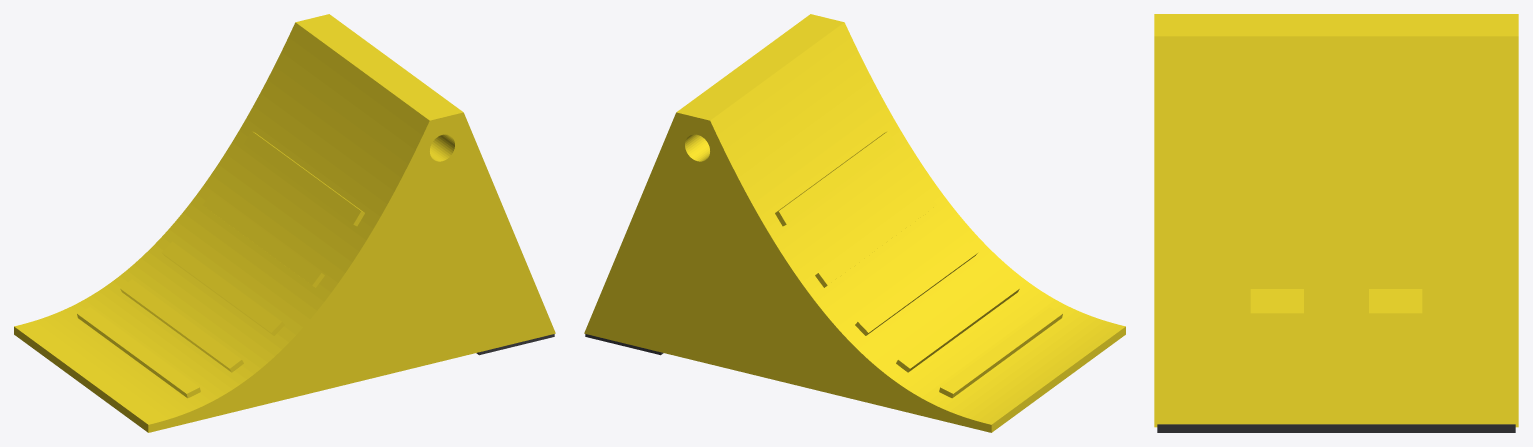
The model's file is radkeil.glb.
3 renders of one model, left to right at view 1: azimuth 30°, elevation 25°; view 2: azimuth 150°, elevation 25°; view 3: azimuth 270°, elevation 25°, orthographic. The views are drawn at different scales.
Visible parts, largest first — view 1: Radkeil_gelb; view 2: Radkeil_gelb; view 3: Radkeil_gelb, Pad_schwarz.
Part boxes in pixels (<box>): Radkeil_gelb: <box>14,14,555,432</box>; Radkeil_gelb: <box>584,14,1125,432</box>; Radkeil_gelb: <box>1154,14,1518,427</box>; Pad_schwarz: <box>1157,424,1515,432</box>.
Bounding box in the file's own units: 0.42 × 0.244 × 0.24.
